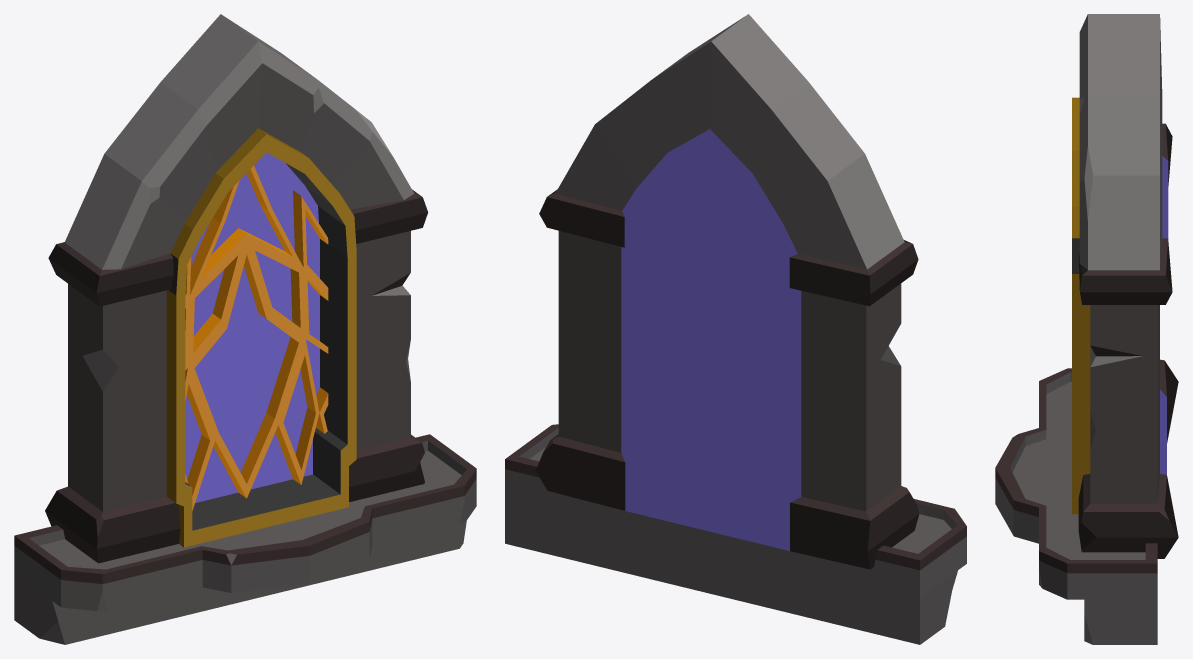
The model's file is Window_03.glb.
3 renders of one model, left to right at view 1: azimuth 30°, elevation 25°; view 2: azimuth 150°, elevation 25°; view 3: azimuth 270°, elevation 25°, orthographic. The views are drawn at different scales.
Visible parts, largest first — view 1: Window_03; view 2: Window_03; view 3: Window_03.
Boxes of the visible parts, x1=… form: Window_03: x1=14, y1=14, x2=476, y2=644; Window_03: x1=505, y1=14, x2=966, y2=644; Window_03: x1=995, y1=14, x2=1178, y2=644.
Size of what is drawn, in the model's own units: 1.7 by 2.17 by 0.677.
Materials: 1 (1 with a texture image).
